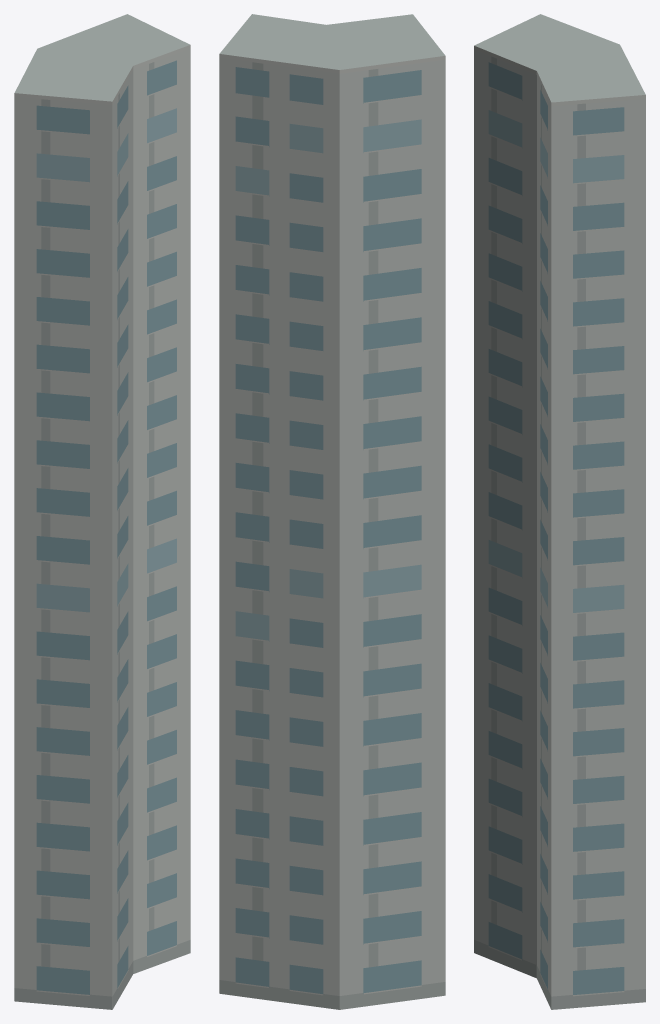
File: survey-upis-32700995.glb
3 views of the same model, side by side, from view 1: azimuth 30°, elevation 25°; view 2: azimuth 150°, elevation 25°; view 3: azimuth 270°, elevation 25° (orthographic). The views are drawn at different scales.
Visible parts, largest first — view 1: survey-upis-32700995.tmp; view 2: survey-upis-32700995.tmp; view 3: survey-upis-32700995.tmp.
Boxes of the visible parts, x1,y1,x2,y2 form: survey-upis-32700995.tmp: (14,14,190,1009); survey-upis-32700995.tmp: (219,14,445,1009); survey-upis-32700995.tmp: (474,14,645,1009).
Bounding box in the file's own units: 12.13 × 57.95 × 9.95.
